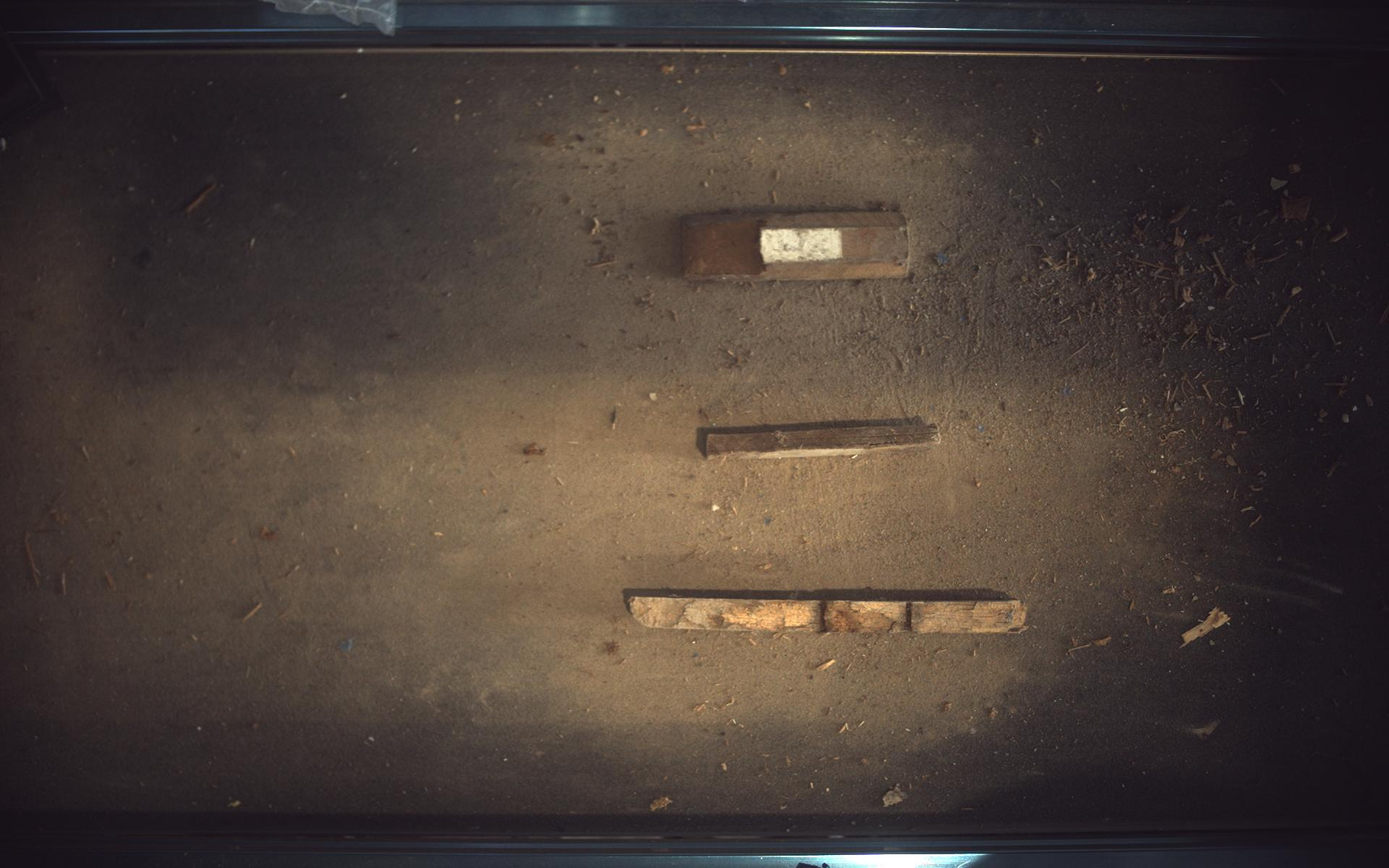wood: (624, 590, 1029, 634), (683, 210, 912, 280), (698, 417, 943, 459)
